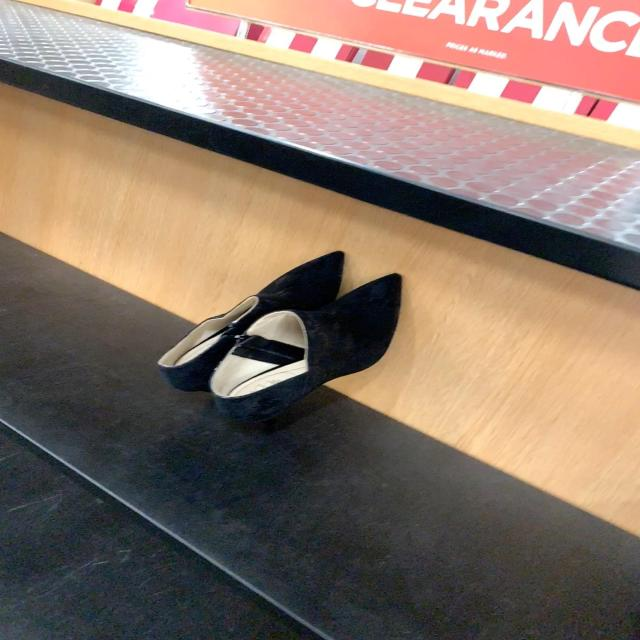shoe: (204, 274, 406, 407)
